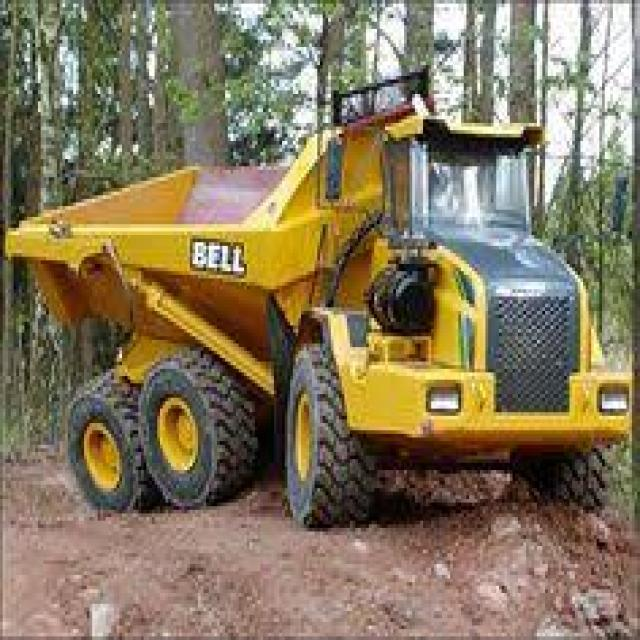dump_truck: (35, 76, 624, 535)
